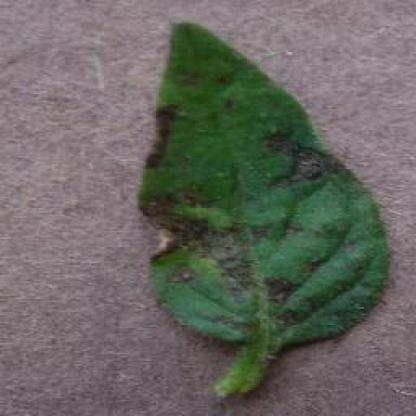Tomato_Blight: (141, 23, 390, 347)
